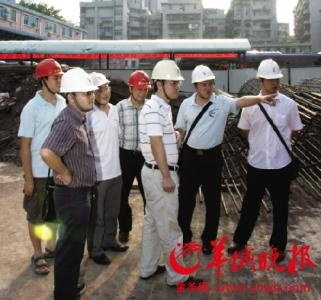red: (33, 57, 64, 96), (126, 68, 152, 103)
white: (58, 65, 97, 114), (150, 58, 182, 102), (253, 56, 284, 96), (86, 68, 112, 108), (190, 63, 217, 99)
